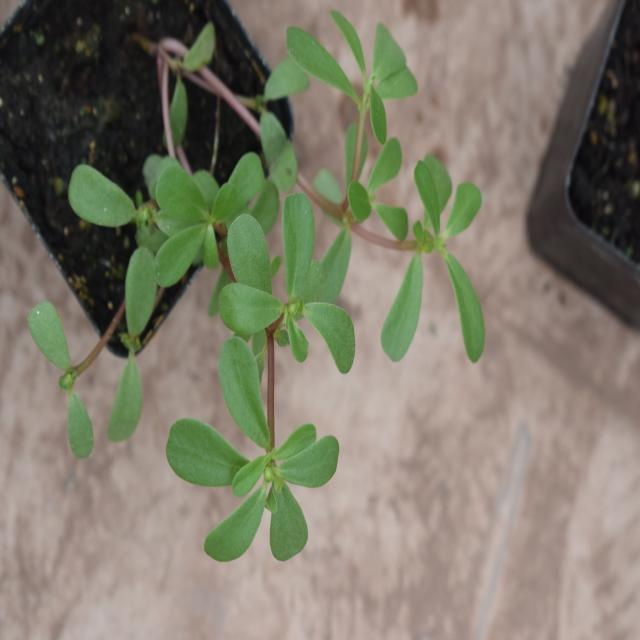purslane: (62, 12, 502, 551)
